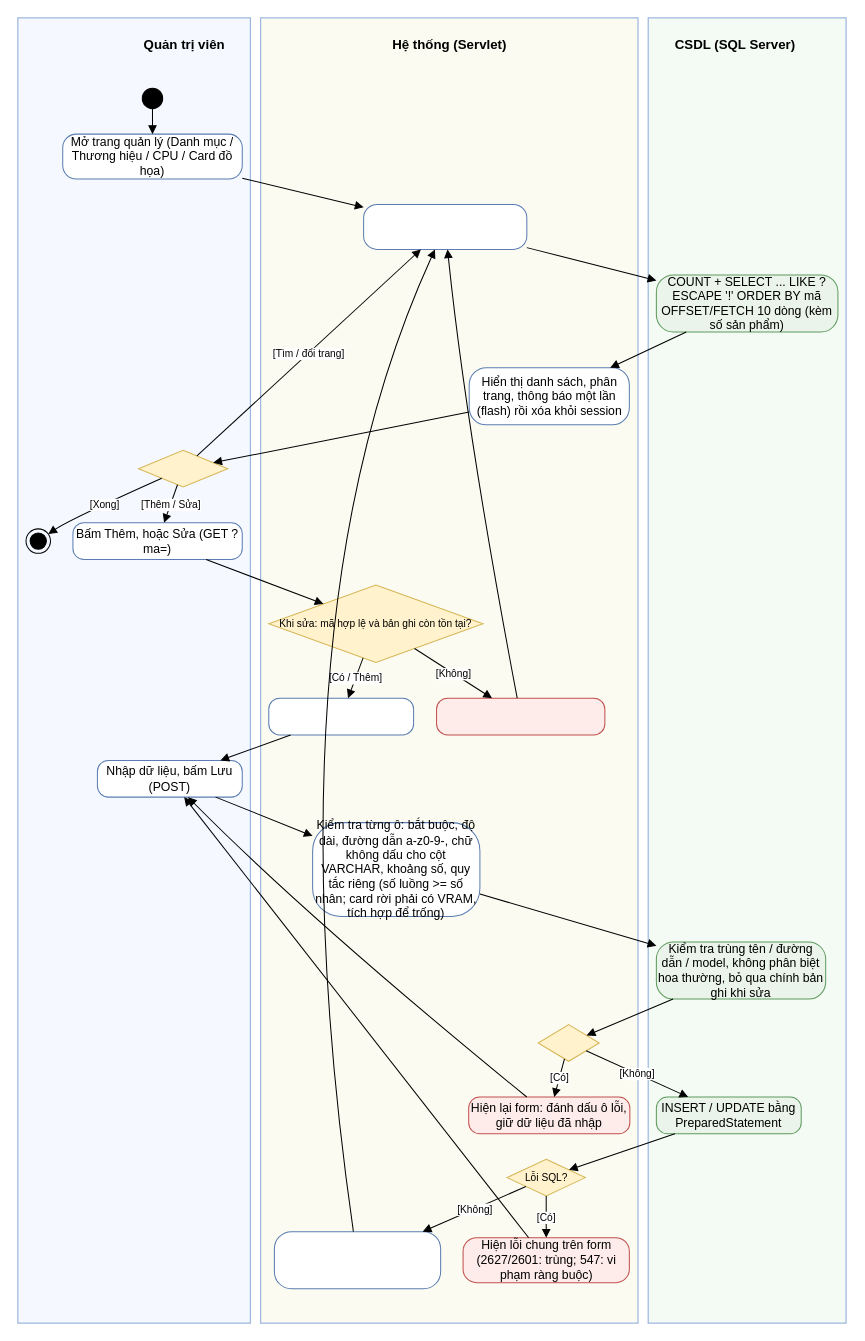
Image size: 865x1341. Some labels were removed from this diagram. Here are the shapes that lost their labels. From the top down, the box of each, then its label:
(363, 203, 527, 249): Đọc tuKhoa, trang; chuẩn hóa (trim, NFC); trang sai -> 1
(137, 449, 228, 487): Thao tác?
(268, 697, 414, 735): Hiển thị form (khi sửa: điền dữ liệu hiện tại)
(436, 697, 605, 735): Về danh sách + thông báo lỗi
(537, 1024, 599, 1061): Có lỗi?
(273, 1231, 441, 1289): Lưu thông báo thành công vào session, redirect về danh sách (Post/Redirect/Get)
